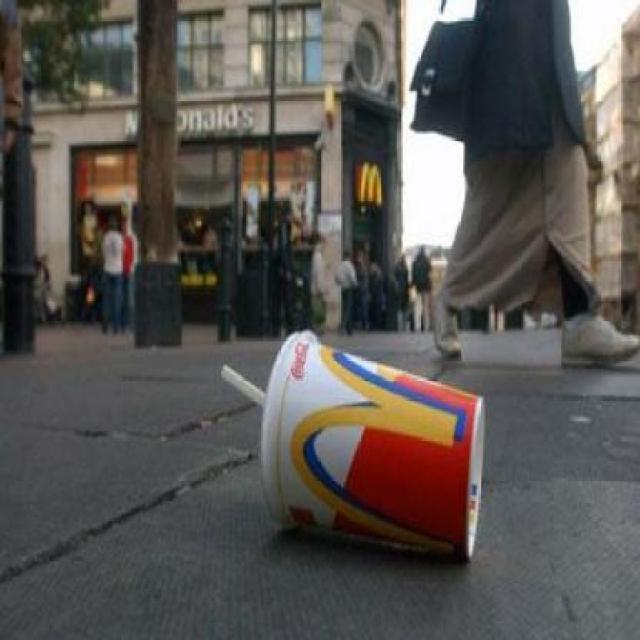garbage: (219, 319, 489, 570)
